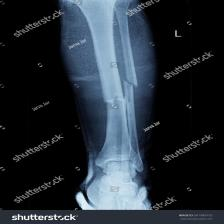closed-simple-fracture: (52, 0, 176, 212)
